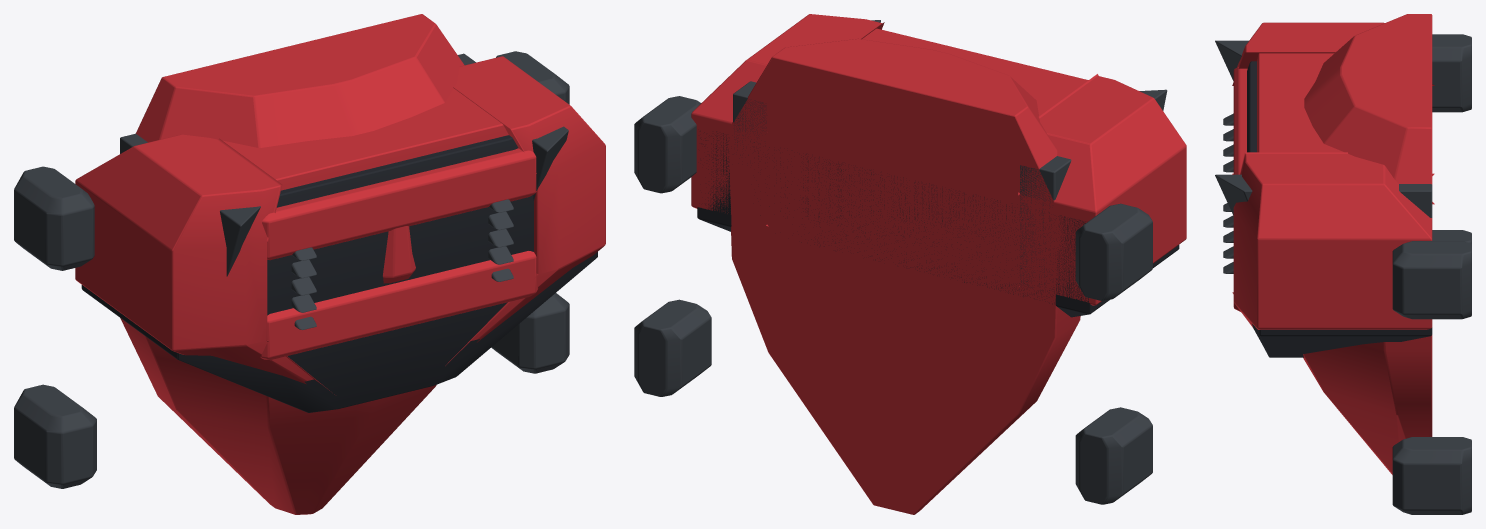
The model's file is UpperArmFront_Set04_Ripjaw.fbx.
The picture shows the model from 3 angles, left to right: view 1: azimuth 30°, elevation 25°; view 2: azimuth 150°, elevation 25°; view 3: azimuth 270°, elevation 25°; orthographic projection. The views are drawn at different scales.
Parts seen in each view (by area): view 1: UpperArmFront_Set04_Ripjaw; view 2: UpperArmFront_Set04_Ripjaw; view 3: UpperArmFront_Set04_Ripjaw.
Boxes of the visible parts, left/top/right/bottom form: UpperArmFront_Set04_Ripjaw: left=14, top=14, right=605, bottom=514; UpperArmFront_Set04_Ripjaw: left=634, top=14, right=1186, bottom=514; UpperArmFront_Set04_Ripjaw: left=1215, top=14, right=1471, bottom=514.
Bounding box in the file's own units: 0.41 × 0.34 × 0.1941.
